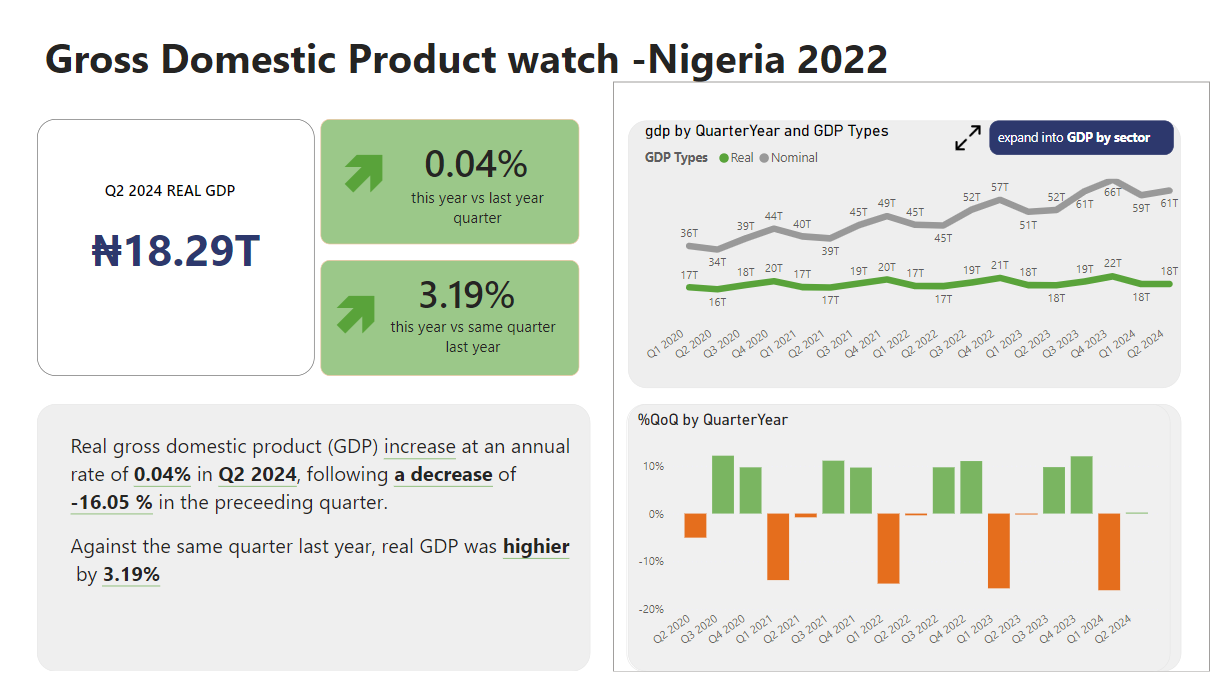

What the dashboard file says about the page in this screenshot:
{"tool":"powerbi","page":{"name":"Page 1","canvas":[1366,768],"ordinal":0},"visuals":[{"type":"textbox","box":[394.4,153.7,275.1,133.5],"z":0},{"type":"textbox","title":"YoY Backgrournd ","box":[394.4,303.4,275.1,123.4],"z":1000},{"type":"textbox","box":[95.1,52.6,956.7,85],"z":2000},{"type":"card","fields":{"Values":["Measures_.%YoY"]},"box":[479.4,303.4,141.6,68.8],"z":3000},{"type":"card","fields":{"Values":["Measures_.%QoQ"]},"box":[467.2,163.8,184.1,68.8],"z":4000},{"type":"card","fields":{"Values":["Measures_.YoY indicator"]},"box":[392.4,311.5,76.9,91],"z":5000},{"type":"card","fields":{"Values":["Measures_.Curent real gdp"]},"box":[93,153.7,295.3,273.1],"z":6000},{"type":"textbox","box":[461.2,358,190.1,54.6],"z":7000},{"type":"textbox","box":[720.8,154.6,588.2,284.4],"z":8000},{"type":"lineChart","fields":{"Y":["Measures_.gdp"],"Series":["GDP.GDP Types "],"Category":["Date_Table.QuarterYear"]},"box":[734.6,154.6,579.9,276.2],"z":9000},{"type":"textbox","box":[93.3,457.1,588.8,284.8],"z":11000},{"type":"textbox","box":[465.2,220.5,190.1,54.6],"z":12000},{"type":"textbox","box":[720.5,457.1,588.8,284.8],"z":13000},{"type":"textbox","box":[1106.2,154.8,196.3,36.7],"z":14000},{"type":"multiRowCard","fields":{"Values":["Measures_.Curent real gdp Tex"]},"box":[159.8,212.4,163.8,40.5],"z":15000},{"type":"clusteredColumnChart","fields":{"Y":["Measures_.%QoQ"],"Category":["Date_Table.QuarterYear"]},"box":[720.1,457.1,578.5,285.2],"z":16000},{"type":"textbox","title":"Report Narative","box":[122.6,480,545.4,216.5],"z":17000},{"type":"image","box":[1064.7,153.2,36.8,40],"z":18000},{"type":"group","title":"Group 1","box":[706.7,112.3,635.2,629.1],"z":19000},{"type":"group","title":"Group 2","box":[705.9,113.3,635.1,629.1],"z":20000},{"type":"card","fields":{"Values":["Measures_.QoQ indicator"]},"box":[395.8,164.4,87.8,84.6],"z":21000}]}

Visuals, with their boxes in screenshot pixels (x1, y1, x2, y2), scaled from the page's 1366x768 canvas onto the 1216x673 screenshot:
textbox: l=351, t=135, r=596, b=252
"YoY Backgrournd " textbox: l=351, t=266, r=596, b=374
textbox: l=85, t=46, r=936, b=121
card - Measures_.%YoY: l=427, t=266, r=553, b=326
card - Measures_.%QoQ: l=416, t=144, r=580, b=204
card - Measures_.YoY indicator: l=349, t=273, r=418, b=353
card - Measures_.Curent real gdp: l=83, t=135, r=346, b=374
textbox: l=411, t=314, r=580, b=362
textbox: l=642, t=135, r=1165, b=385
lineChart - Measures_.gdp x GDP.GDP Types : l=654, t=135, r=1170, b=378
textbox: l=83, t=401, r=607, b=650
textbox: l=414, t=193, r=583, b=241
textbox: l=641, t=401, r=1166, b=650
textbox: l=985, t=136, r=1159, b=168
multiRowCard - Measures_.Curent real gdp Tex: l=142, t=186, r=288, b=222
clusteredColumnChart - Measures_.%QoQ x Date_Table.QuarterYear: l=641, t=401, r=1156, b=650
"Report Narative" textbox: l=109, t=421, r=595, b=610
image: l=948, t=134, r=981, b=169
"Group 1" group: l=629, t=98, r=1195, b=650
"Group 2" group: l=628, t=99, r=1194, b=651
card - Measures_.QoQ indicator: l=352, t=144, r=430, b=218
